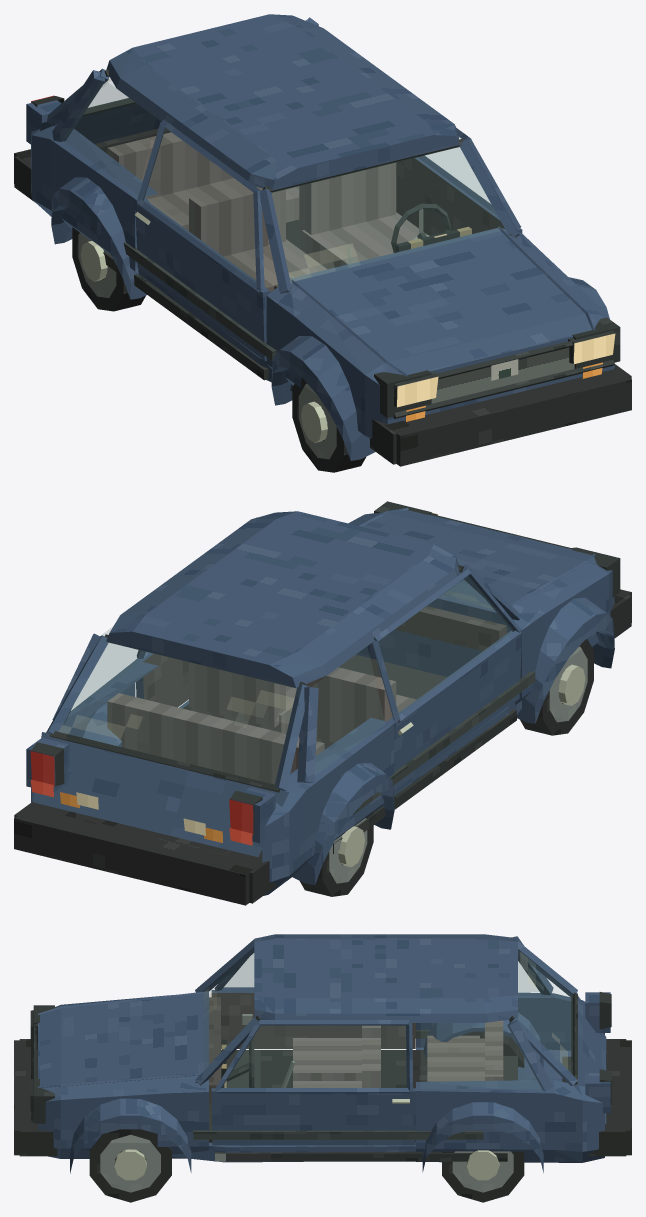
File: pinelatch-1993.glb
The picture shows the model from 3 angles, top to bottom: view 1: azimuth 30°, elevation 25°; view 2: azimuth 150°, elevation 25°; view 3: azimuth 270°, elevation 25°; orthographic projection. The views are drawn at different scales.
Visible parts, largest first — view 1: body, Hood opening panel, Hinged side glass.001, Shaped hinged outer door.001, Padded inside door panel, Opening hatch panel, Tyre tread and scalloped shoulders.001, Tyre tread and scalloped shoulders.003, Hinged side glass, Wheel side annulus.001, Door sash.007, Lens.006 (+6 smaller); view 2: body, Rear safety glass, Opening hatch panel, Hinged side glass.001, Hood opening panel, Shaped hinged outer door.001, Padded inside door panel, Window bottom seal.001, Tyre tread and scalloped shoulders.001, Fixed outer pillar.002, Tyre tread and scalloped shoulders.003, Fixed outer pillar.003 (+11 smaller); view 3: body, Hood opening panel, Hinged side glass, Shaped hinged outer door, Rear safety glass, Padded inside door panel.001, Tyre tread and scalloped shoulders, Wheel side annulus, Opening hatch panel, Tyre tread and scalloped shoulders.002, Wheel side annulus.002, Door sash.003 (+11 smaller).
Part boxes in pixels (<box>): body: <box>14,14,631,466</box>; Hood opening panel: <box>291,228,591,374</box>; Hinged side glass.001: <box>143,128,255,281</box>; Shaped hinged outer door.001: <box>135,199,264,360</box>; Padded inside door panel: <box>396,158,504,235</box>; Opening hatch panel: <box>40,103,161,143</box>; Tyre tread and scalloped shoulders.001: <box>292,377,365,472</box>; Tyre tread and scalloped shoulders.003: <box>72,227,145,311</box>; Hinged side glass: <box>424,138,491,205</box>; Wheel side annulus.001: <box>298,383,336,459</box>; Door sash.007: <box>136,199,259,292</box>; Lens.006: <box>397,376,438,407</box>; body: <box>14,501,631,905</box>; Rear safety glass: <box>58,643,296,783</box>; Opening hatch panel: <box>33,732,289,857</box>; Hinged side glass.001: <box>379,576,513,714</box>; Hood opening panel: <box>362,510,591,612</box>; Shaped hinged outer door.001: <box>394,630,522,789</box>; Padded inside door panel: <box>143,653,188,707</box>; Window bottom seal.001: <box>49,731,279,792</box>; Tyre tread and scalloped shoulders.001: <box>520,639,593,735</box>; Fixed outer pillar.002: <box>275,684,308,790</box>; Tyre tread and scalloped shoulders.003: <box>300,812,373,896</box>; Fixed outer pillar.003: <box>46,635,108,733</box>; body: <box>14,934,631,1173</box>; Hood opening panel: <box>38,993,208,1085</box>; Hinged side glass: <box>222,1026,405,1087</box>; Shaped hinged outer door: <box>211,1091,415,1145</box>; Rear safety glass: <box>518,950,572,1073</box>; Padded inside door panel.001: <box>211,993,415,1048</box>; Tyre tread and scalloped shoulders: <box>89,1129,171,1202</box>; Wheel side annulus: <box>100,1134,160,1192</box>; Opening hatch panel: <box>574,996,606,1124</box>; Tyre tread and scalloped shoulders.002: <box>442,1151,524,1202</box>; Wheel side annulus.002: <box>452,1151,513,1192</box>; Door sash.003: <box>217,1088,409,1093</box>.
Size of the model in its own units: 1.87 by 1.4 by 4.24.
6 materials, 6 textured.
